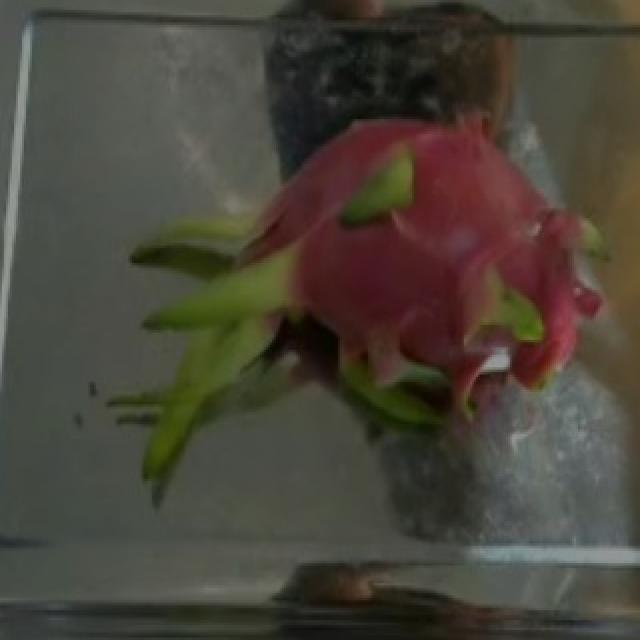fruit: (222, 74, 632, 493)
